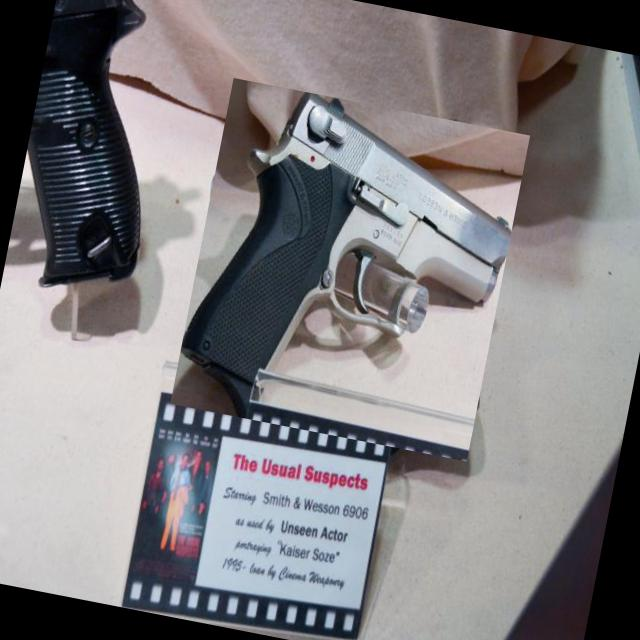Gun: (181, 94, 511, 418), (27, 0, 145, 286)
